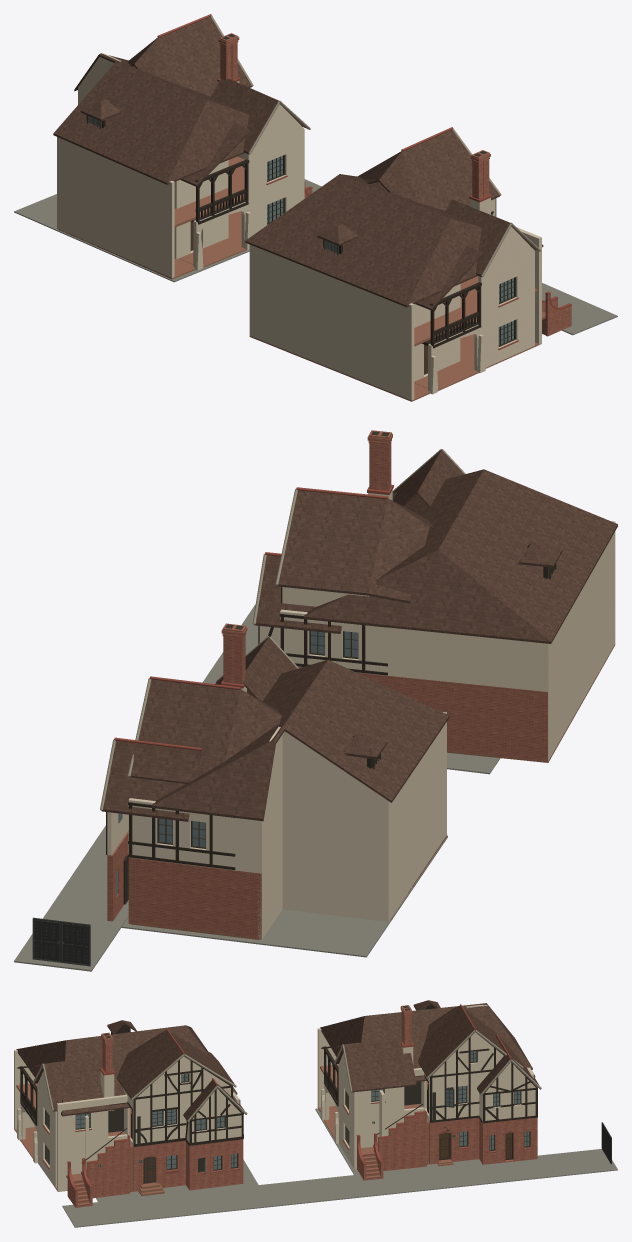
The model's file is xuhui-wuyuan-289-garden-houses-raw.glb.
3 views of the same model, one above another, from view 1: azimuth 30°, elevation 25°; view 2: azimuth 150°, elevation 25°; view 3: azimuth 270°, elevation 25° (orthographic). The views are drawn at different scales.
Visible parts, largest first — view 1: 五原路289弄花园住宅; view 2: 五原路289弄花园住宅; view 3: 五原路289弄花园住宅.
Part boxes in pixels (x1,y1,x2,y2): 五原路289弄花园住宅: (14, 14, 617, 401); 五原路289弄花园住宅: (14, 430, 617, 971); 五原路289弄花园住宅: (14, 1000, 617, 1227).
Size of the model in its own units: 23.9 by 11.75 by 44.2.
Materials: 18 (3 with a texture image).
